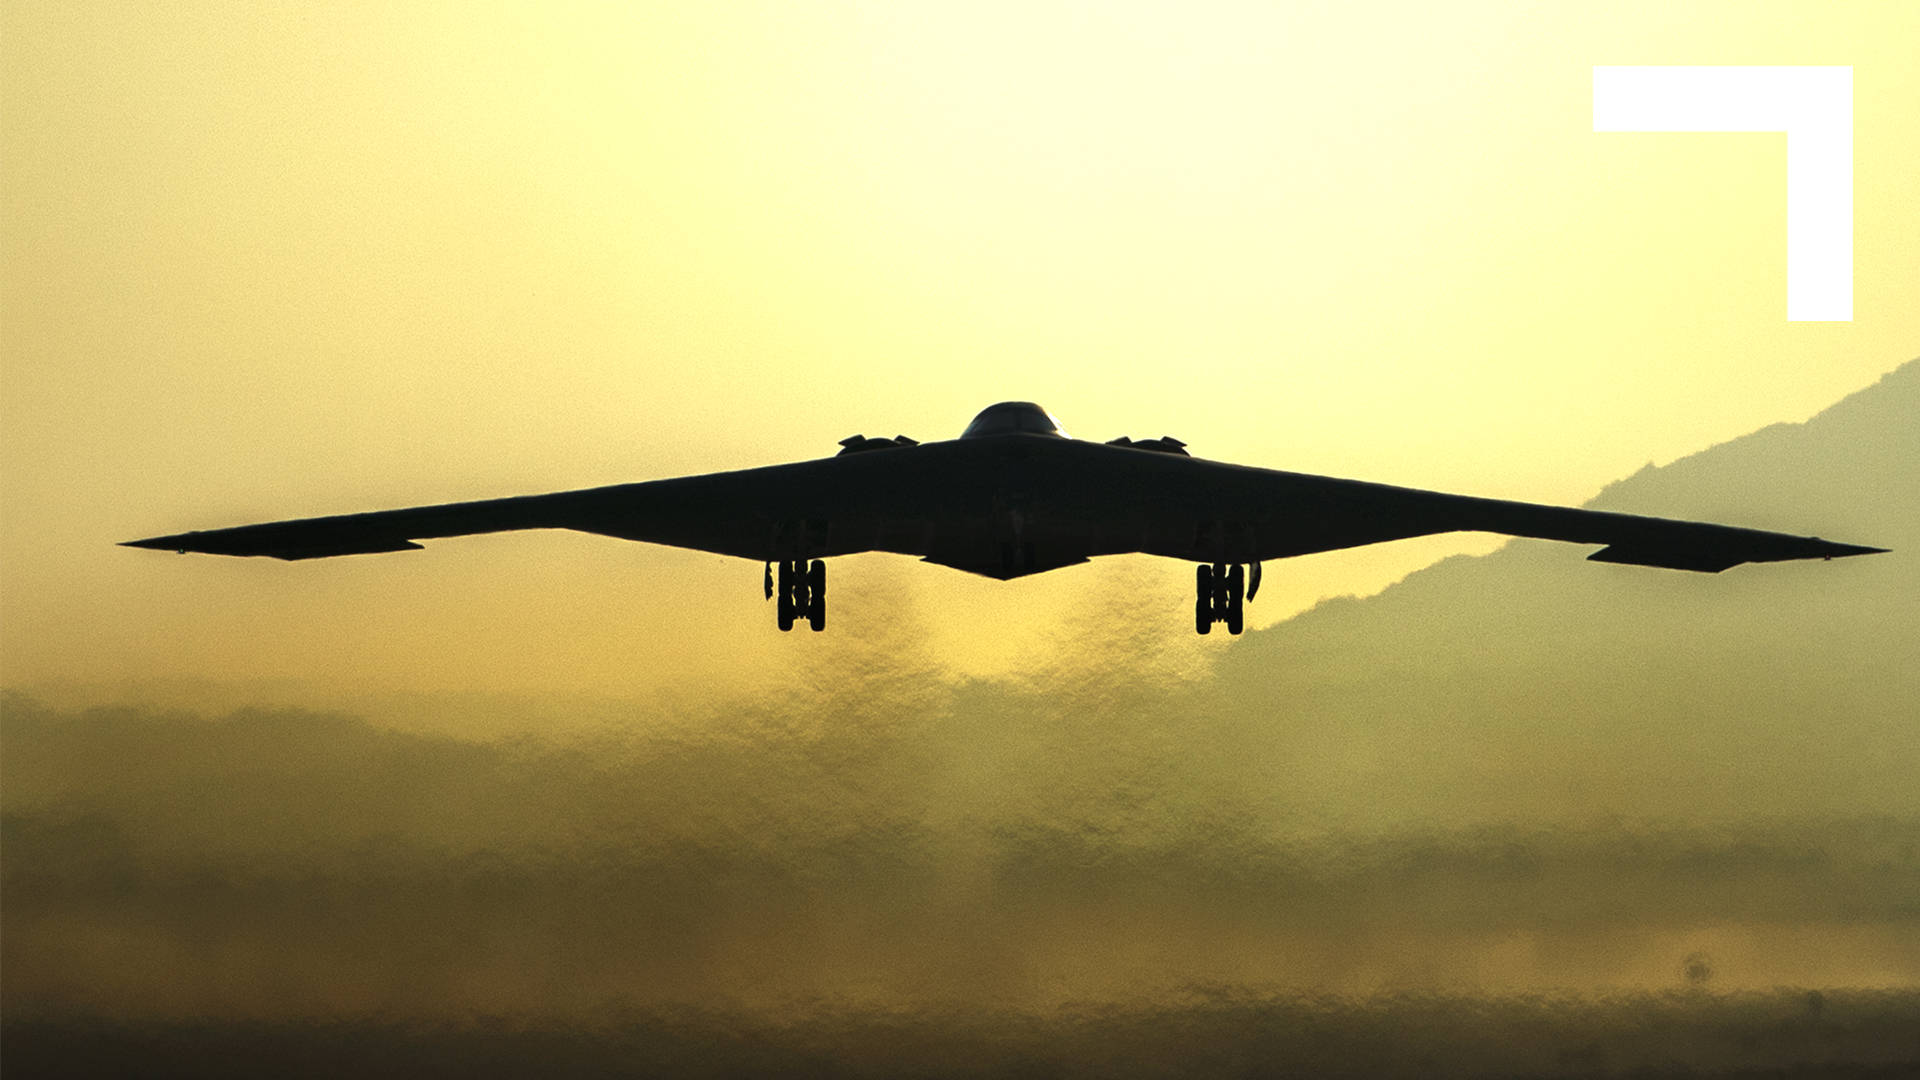B2: (113, 400, 1894, 636)
